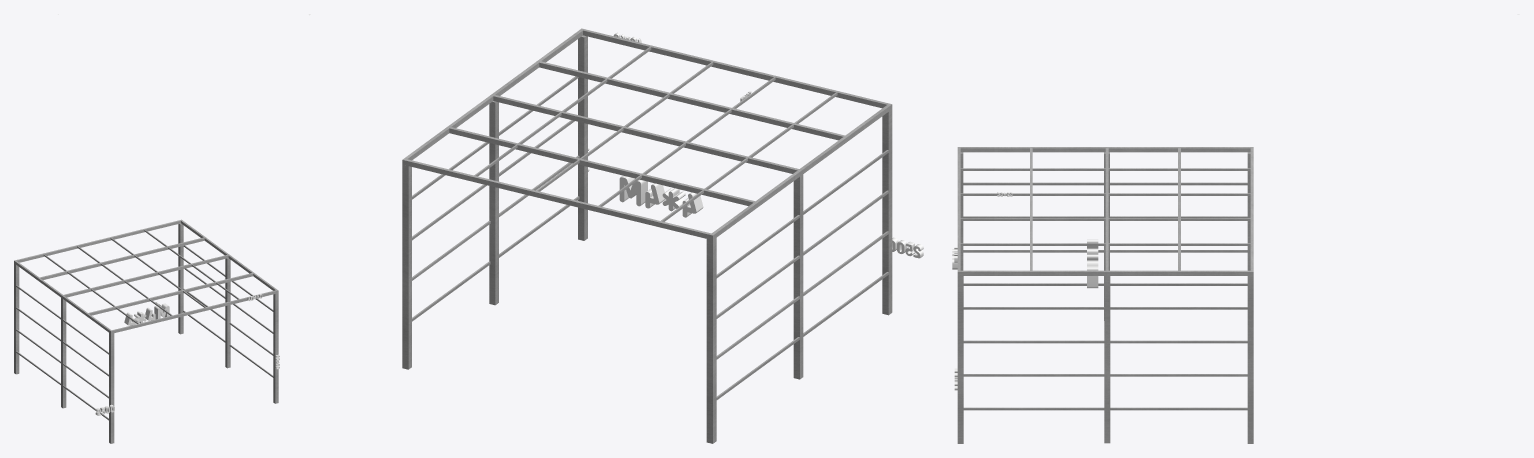
File: vineyard_grey.glb
The picture shows the model from 3 angles, left to right: view 1: azimuth 30°, elevation 25°; view 2: azimuth 150°, elevation 25°; view 3: azimuth 270°, elevation 25°; orthographic projection. The views are drawn at different scales.
Visible parts, largest first — view 1: 9a45a570-9647-4bca-97ee-4d8e5104310d; view 2: 9a45a570-9647-4bca-97ee-4d8e5104310d; view 3: 9a45a570-9647-4bca-97ee-4d8e5104310d.
Boxes of the visible parts, x1,y1,x2,y2 form: 9a45a570-9647-4bca-97ee-4d8e5104310d: [14, 14, 279, 443]; 9a45a570-9647-4bca-97ee-4d8e5104310d: [308, 14, 923, 443]; 9a45a570-9647-4bca-97ee-4d8e5104310d: [952, 14, 1519, 443].
Bounding box in the file's own units: 4371 × 6000 × 7669.
2 materials, 1 textured.
